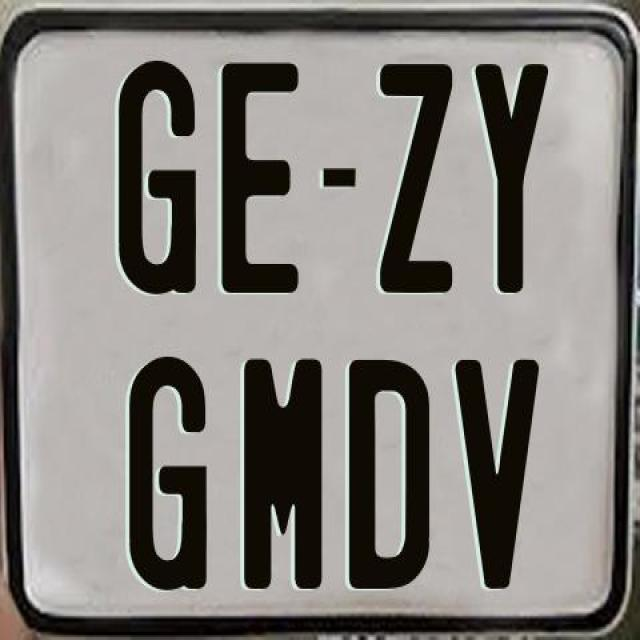D: (346, 358, 426, 594)
E: (218, 58, 302, 288)
G: (126, 357, 212, 596), (118, 58, 198, 294)
M: (240, 358, 319, 598)
V: (454, 356, 542, 594)
Y: (474, 64, 554, 301)
Z: (378, 59, 458, 294)
